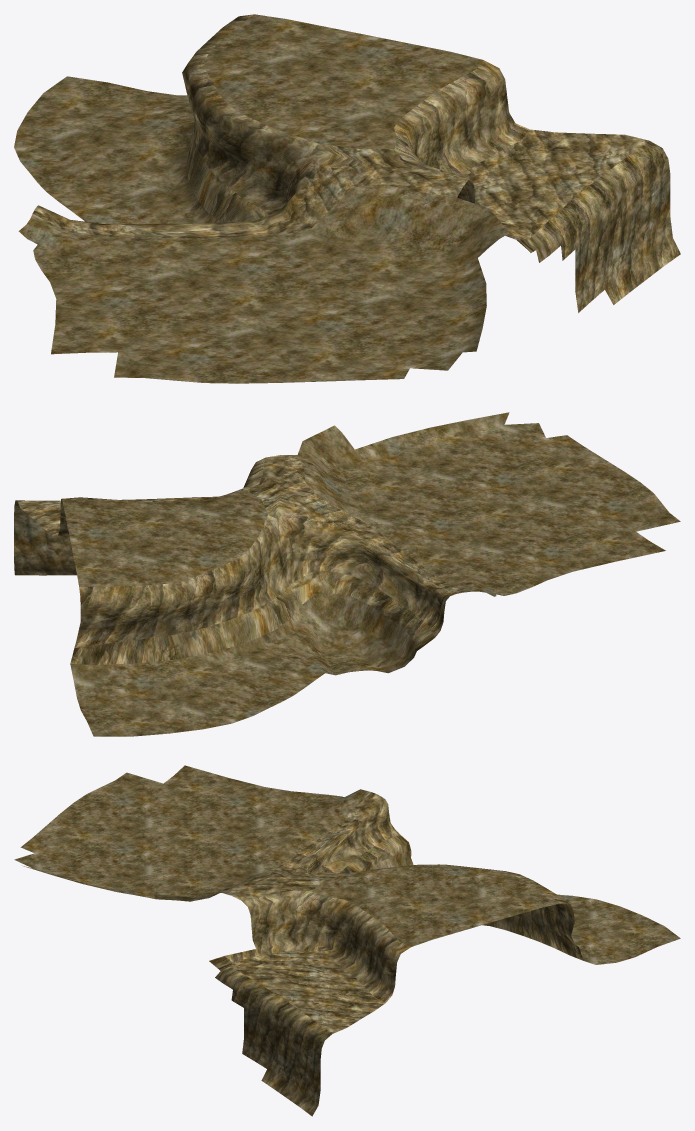
Rendered from RM_PLAYSURFACE_FINAL_OBJECT11.fbx.
3 views of the same model, one above another, from view 1: azimuth 30°, elevation 25°; view 2: azimuth 150°, elevation 25°; view 3: azimuth 270°, elevation 25° (orthographic). The views are drawn at different scales.
Parts seen in each view (by area): view 1: RM_PLAYSURFACE_FINAL_OBJECT11; view 2: RM_PLAYSURFACE_FINAL_OBJECT11; view 3: RM_PLAYSURFACE_FINAL_OBJECT11.
Boxes of the visible parts, x1,y1,x2,y2 form: RM_PLAYSURFACE_FINAL_OBJECT11: (14,14,680,383); RM_PLAYSURFACE_FINAL_OBJECT11: (14,412,680,736); RM_PLAYSURFACE_FINAL_OBJECT11: (14,765,680,1116).
Bounding box in the file's own units: 370350 × 86806 × 416370.
Materials: 4 (4 with a texture image).
